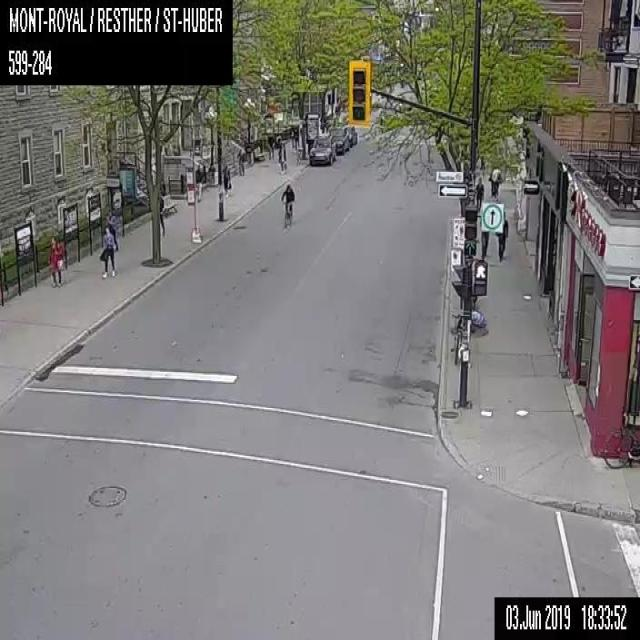cyclist: (280, 182, 295, 234)
pedestrian: (100, 225, 115, 278), (49, 234, 62, 286), (495, 211, 508, 260), (104, 211, 118, 249), (222, 163, 231, 196), (491, 167, 500, 200), (158, 194, 165, 234), (236, 147, 245, 176), (195, 164, 202, 201), (475, 177, 483, 209), (278, 142, 286, 172), (480, 232, 488, 258), (268, 132, 274, 159), (294, 127, 298, 148)
vehicle: (308, 133, 335, 164), (328, 126, 348, 153), (343, 124, 357, 146)
